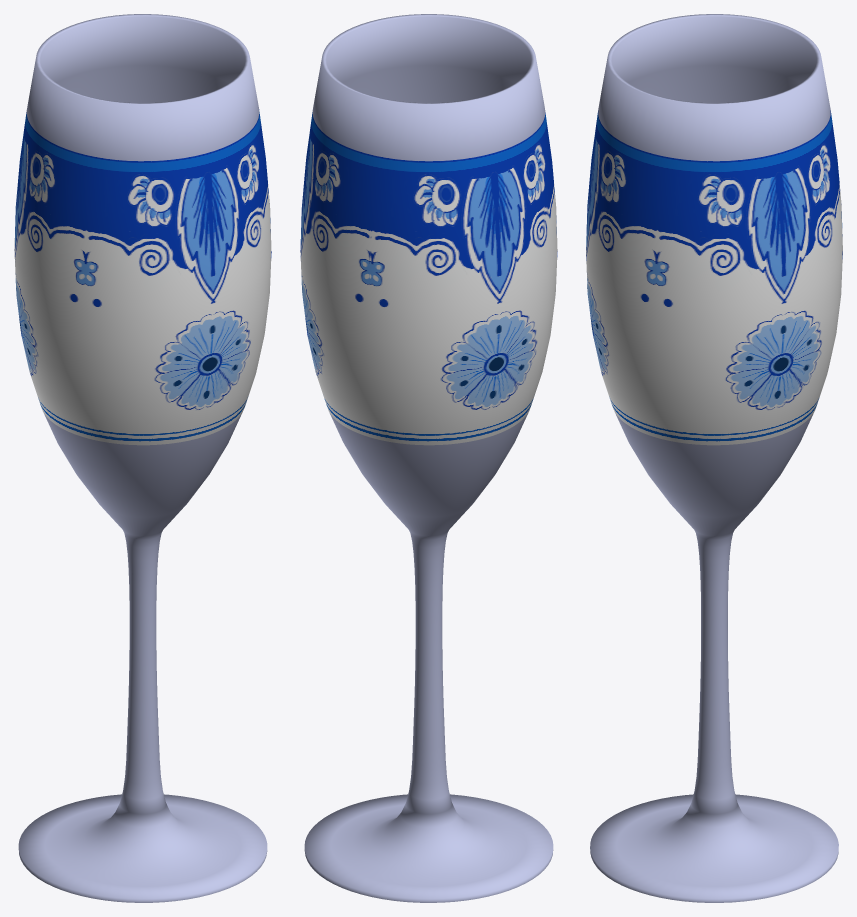
Rendered from ARDelftFlute13.glb.
3 renders of one model, left to right at view 1: azimuth 30°, elevation 25°; view 2: azimuth 150°, elevation 25°; view 3: azimuth 270°, elevation 25°, orthographic.
Parts seen in each view (by area): view 1: cup2.002; view 2: cup2.002; view 3: cup2.002.
Boxes of the visible parts, bbox=[...] form: cup2.002: bbox=[14, 14, 271, 902]; cup2.002: bbox=[300, 14, 557, 902]; cup2.002: bbox=[586, 14, 842, 902].
Bounding box in the file's own units: 2.89 × 9.82 × 2.89.
Materials: 1 (1 with a texture image).
